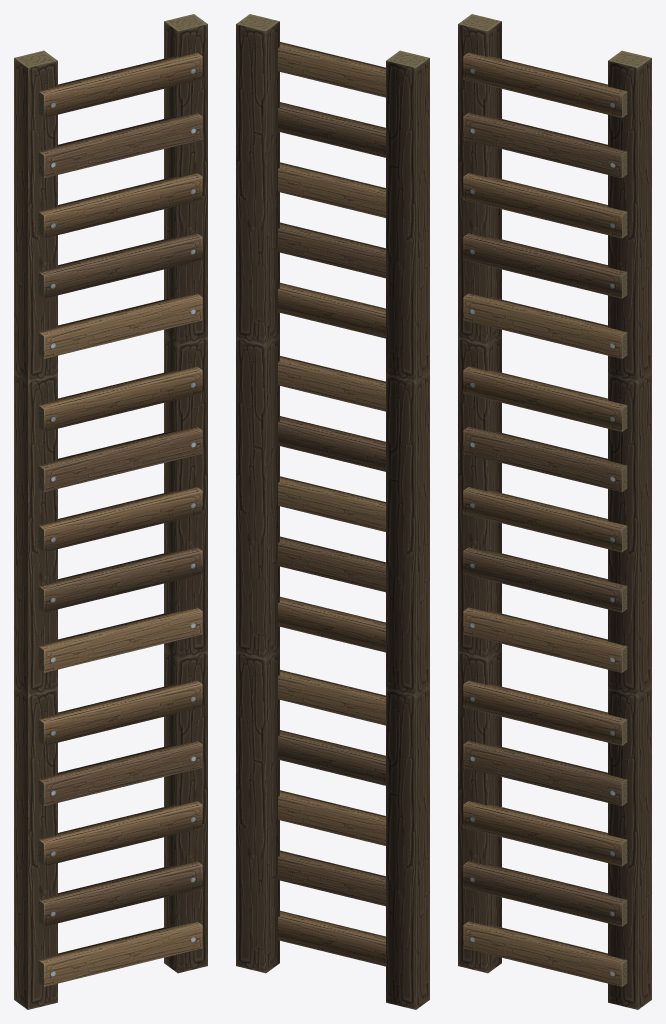
The model's file is SM_Ladder_3m_01_A.glb.
The picture shows the model from 3 angles, left to right: view 1: azimuth 30°, elevation 25°; view 2: azimuth 150°, elevation 25°; view 3: azimuth 330°, elevation 25°; orthographic projection.
Visible parts, largest first — view 1: SM_Ladder_3m_01_A; view 2: SM_Ladder_3m_01_A; view 3: SM_Ladder_3m_01_A.
Boxes of the visible parts, x1,y1,x2,y2 form: SM_Ladder_3m_01_A: (14, 14, 207, 1009); SM_Ladder_3m_01_A: (236, 14, 429, 1009); SM_Ladder_3m_01_A: (458, 14, 651, 1009).
Bounding box in the file's own units: 0.6 × 3 × 0.1116.
Materials: 1 (1 with a texture image).
